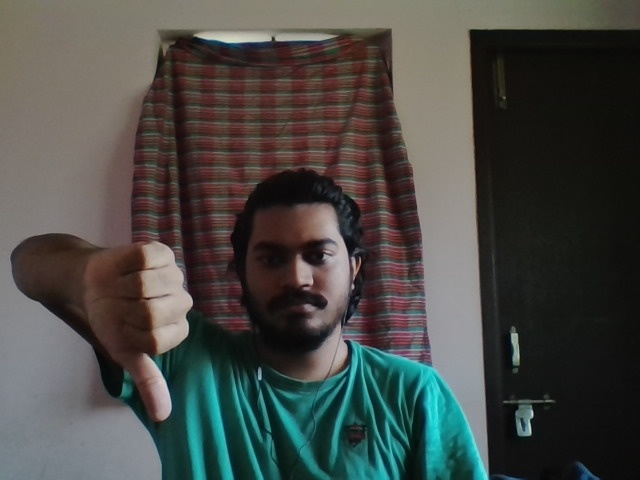ThumbsDown: (83, 241, 193, 421)
